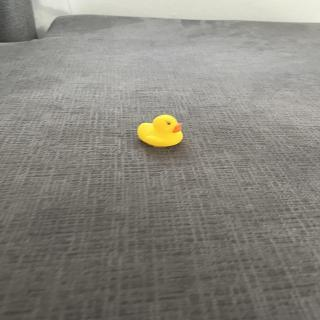duck_regular: (137, 115, 186, 151)
